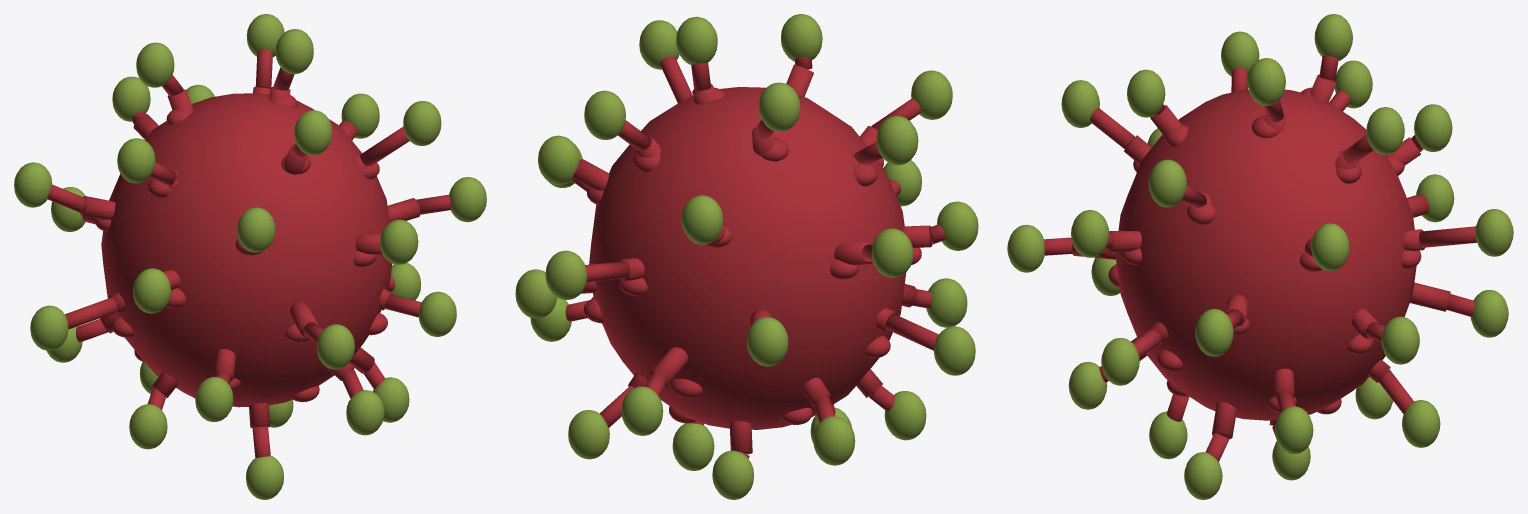
File: virus.glb
3 views of the same model, side by side, from view 1: azimuth 30°, elevation 25°; view 2: azimuth 150°, elevation 25°; view 3: azimuth 270°, elevation 25° (orthographic). The views are drawn at different scales.
Visible parts, largest first — view 1: nucleus_membrane.003, nucleus_spore.003; view 2: nucleus_membrane.003, nucleus_spore.003; view 3: nucleus_membrane.003, nucleus_spore.003.
Boxes of the visible parts, box(x1,y1,x2,y2) form: nucleus_membrane.003: box(47, 49, 451, 457); nucleus_spore.003: box(14, 14, 486, 499); nucleus_membrane.003: box(565, 56, 944, 458); nucleus_spore.003: box(515, 14, 978, 499); nucleus_membrane.003: box(1044, 55, 1476, 461); nucleus_spore.003: box(1007, 14, 1513, 499).
Size of the model in its own units: 1.12 by 1.05 by 1.1.
